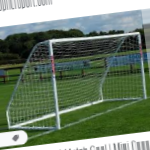goals: (5, 30, 148, 130)
